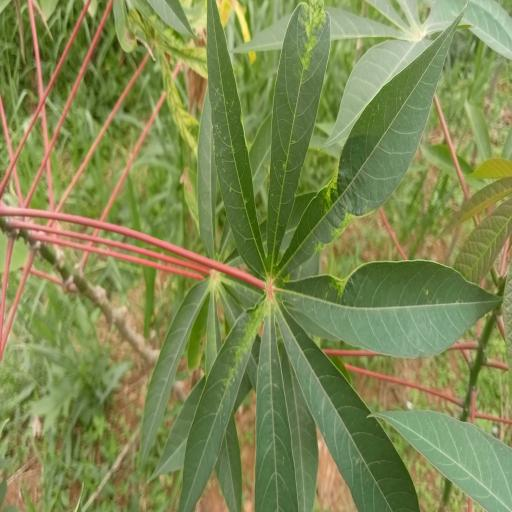Cassava_Mosaic: (177, 0, 505, 512)
